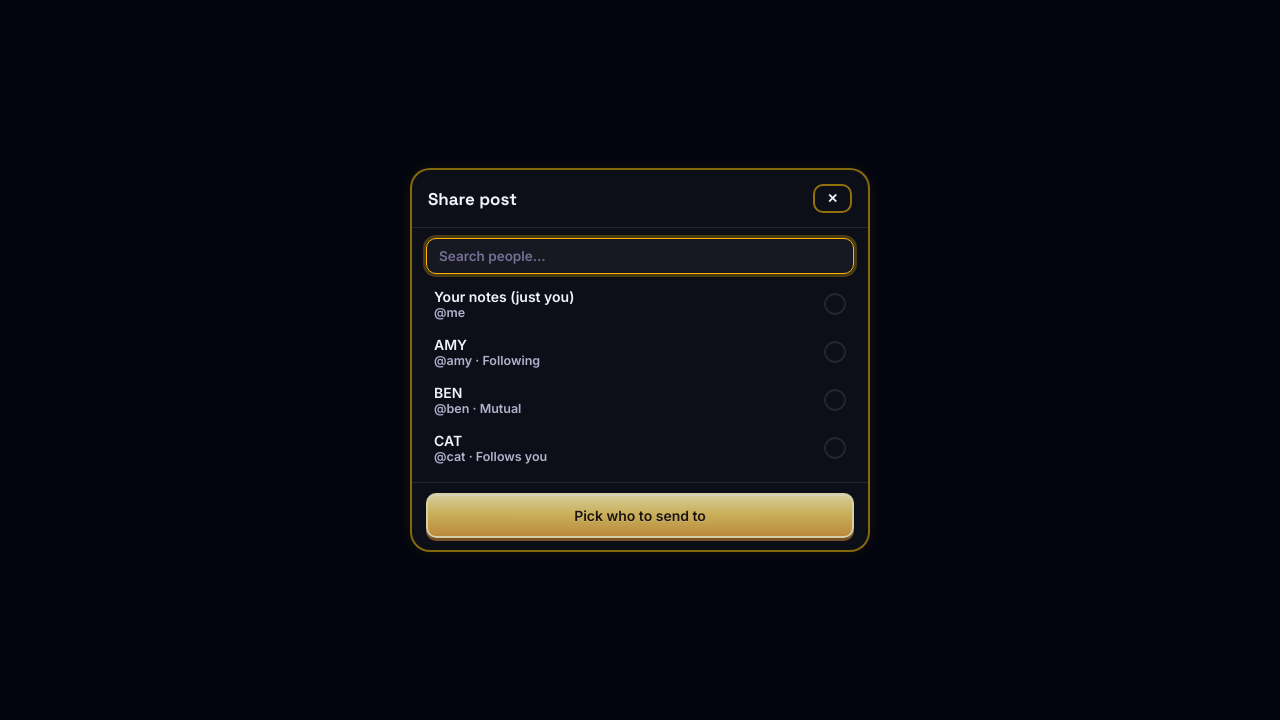
Test: ShareSheet › send is disabled until someone is picked, and you can pick your own notes
This screenshot has width=1280, height=720.
Expected: the text "AMY" is shown, [434,336,467,353]
Expected: the button "Pick who to send to" is disabled, [426,493,854,538]
Click the text "Your notes (just you)" at (504, 296), box [434,288,574,305]
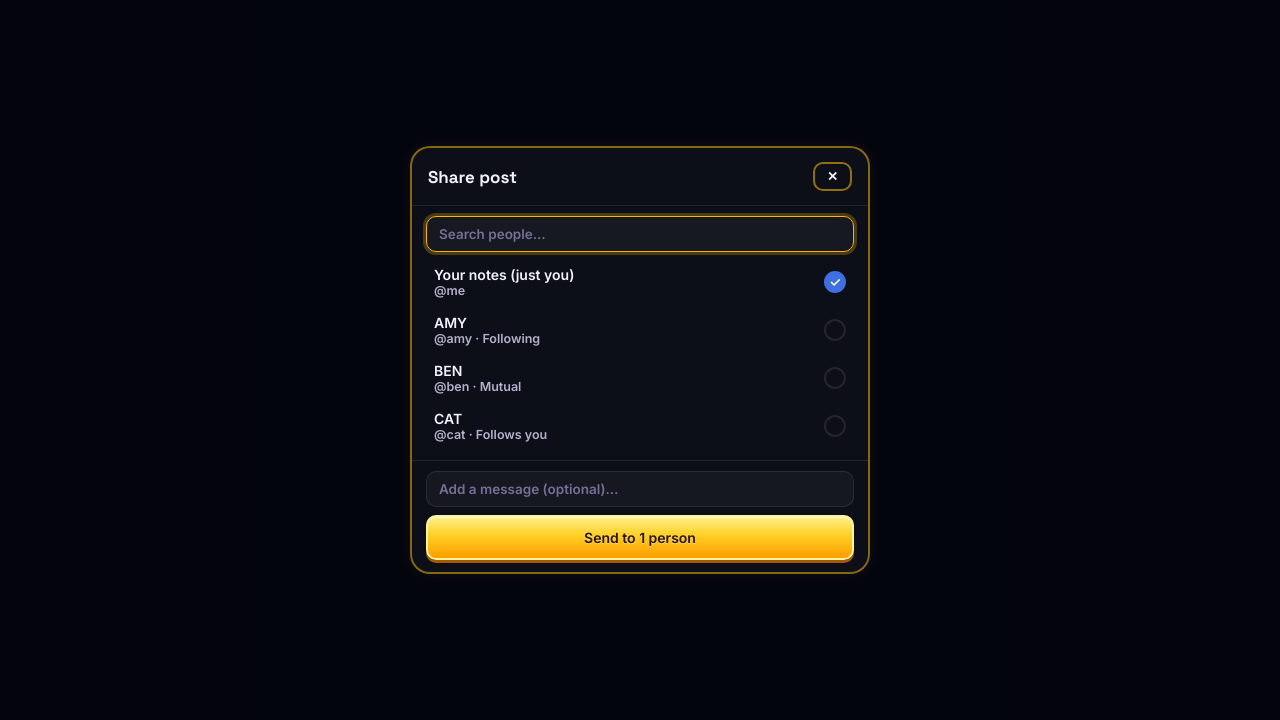
Expected: the button "Send to 1 person" is enabled, [426,515,854,560]
